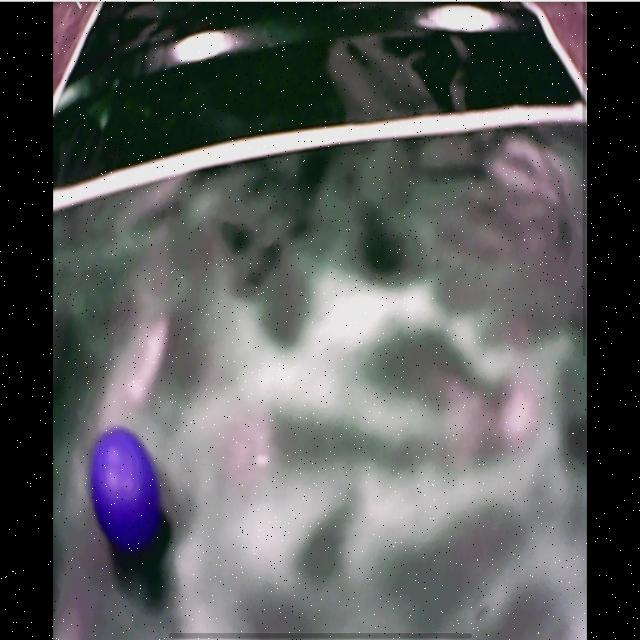ball: (89, 427, 162, 554)
